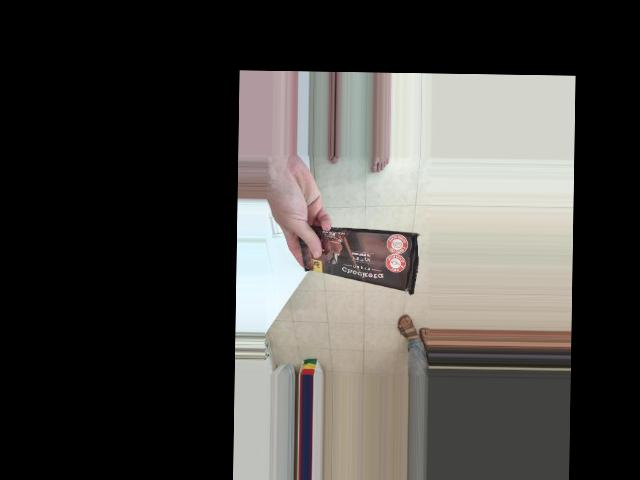chocolate: (300, 215, 421, 296)
